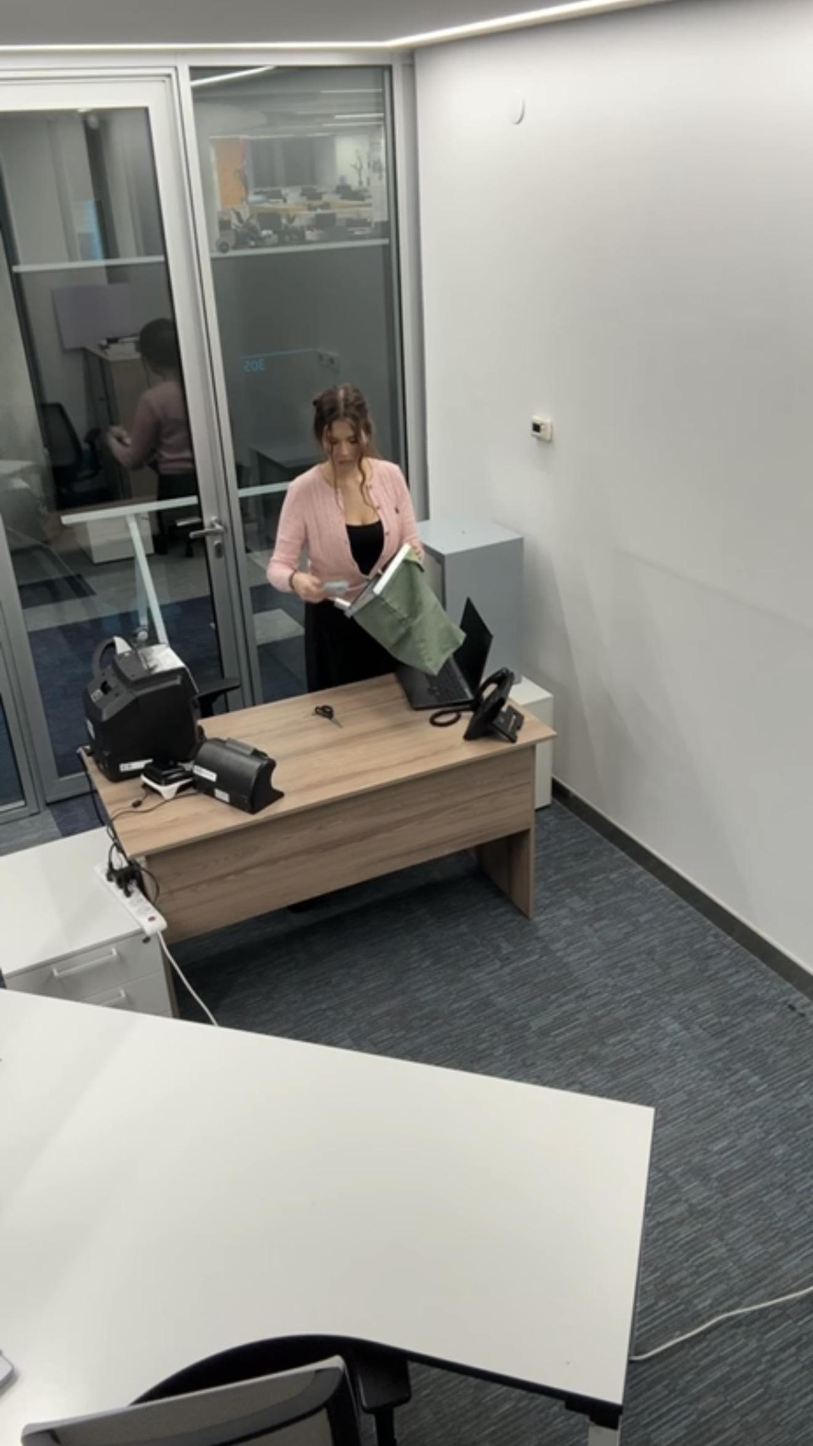cash-in-transit bag: (351, 540, 466, 678)
cash_stack: (312, 565, 361, 608)
counter: (84, 645, 207, 766)
uv_lamp: (187, 725, 287, 807)
